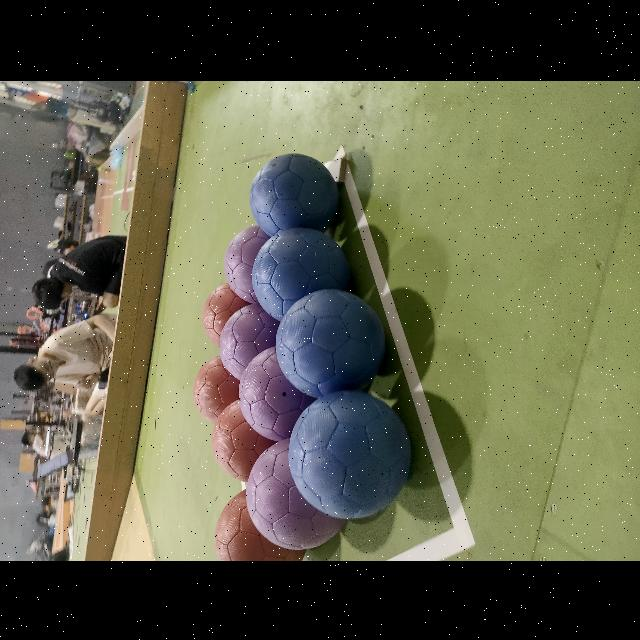B: (289, 390, 411, 518), (276, 288, 384, 396), (252, 227, 356, 319), (250, 153, 338, 235)
P: (246, 441, 344, 549), (238, 346, 316, 439), (219, 306, 289, 374), (224, 225, 270, 302)
R: (214, 490, 304, 560), (211, 400, 275, 480), (189, 356, 259, 426), (202, 283, 248, 345)
